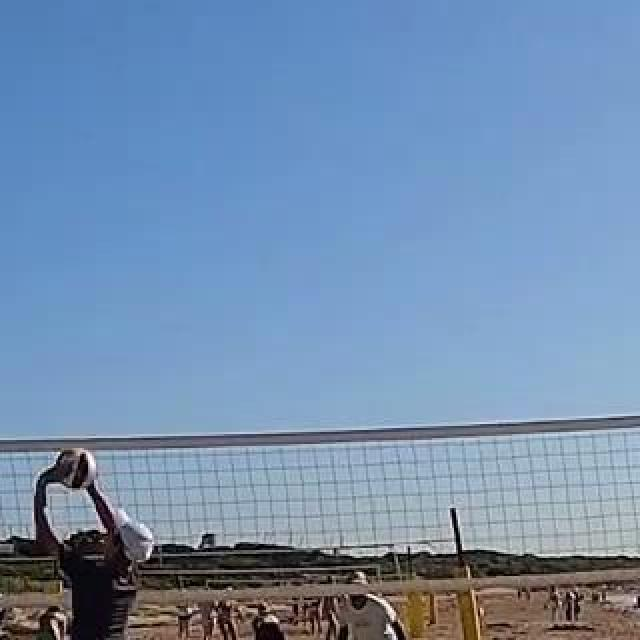volleyball: (53, 447, 95, 489)
